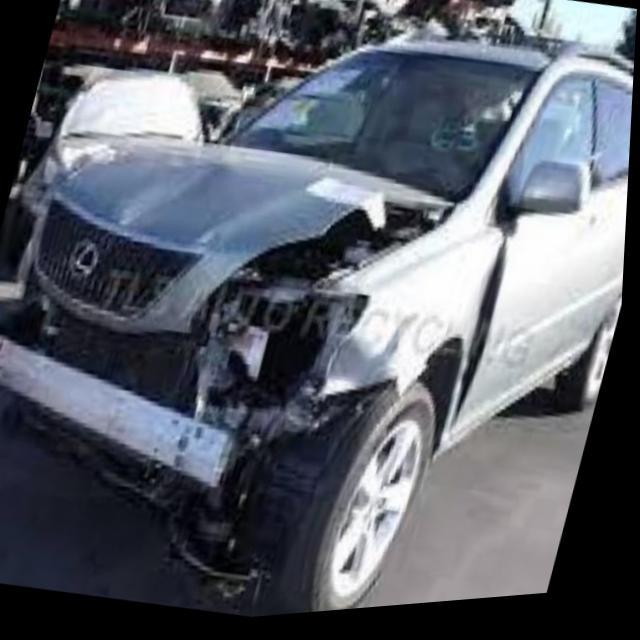no part: (0, 136, 508, 617)
